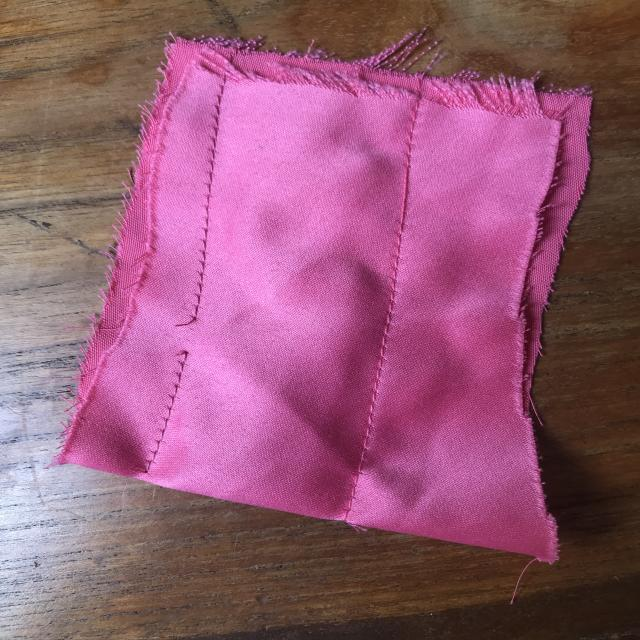broken: (164, 293, 216, 373)
good: (362, 295, 402, 379)
skip: (375, 153, 442, 244)
